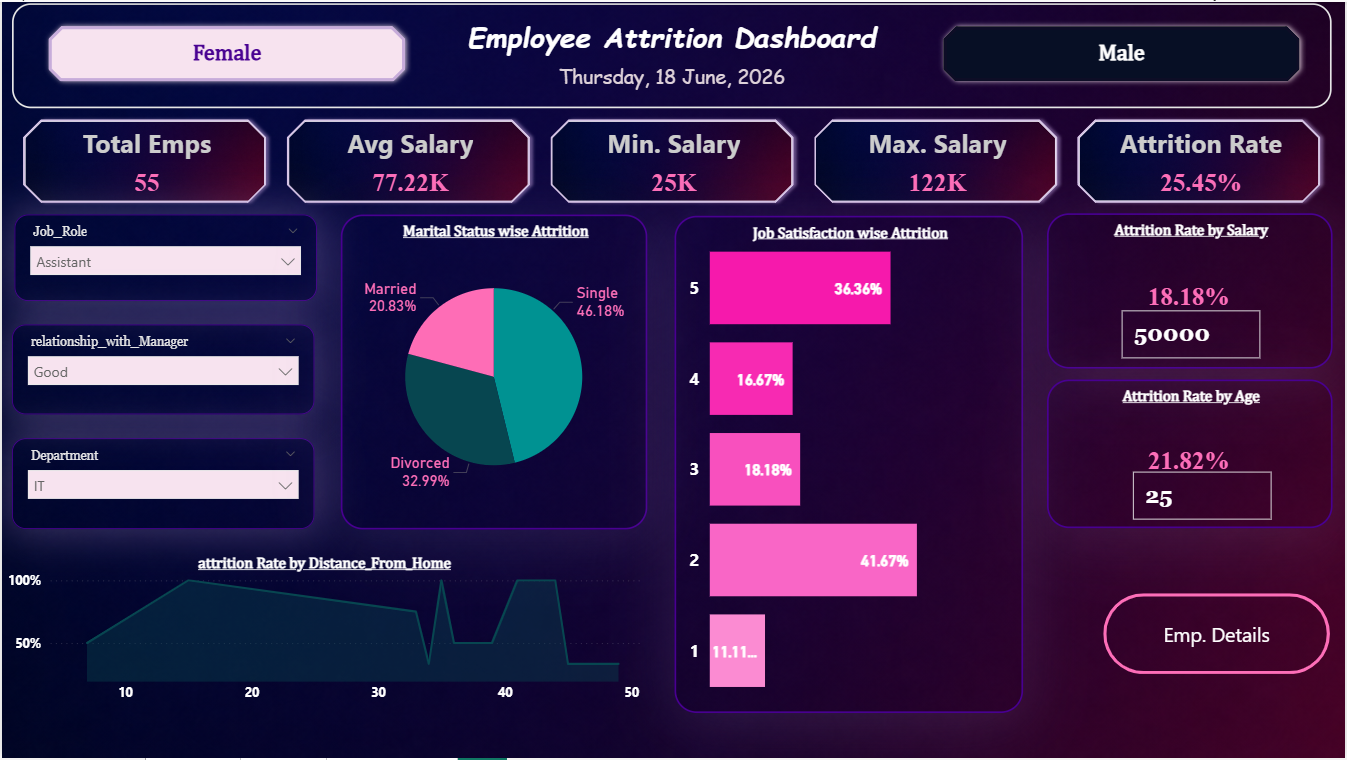

The dashboard page shown, as its layout file describes it:
{"tool":"powerbi","page":{"name":"Main","canvas":[1280,720],"ordinal":0},"visuals":[{"type":"textbox","box":[10,1.4,1257.1,100],"z":0},{"type":"card","fields":{"Values":["emp_attrition.Current date"]},"box":[467.1,44.3,342.9,57.1],"z":1000},{"type":"cardVisual","fields":{"Data":["CountNonNull(emp_attrition.Employee_ID)","Avg(emp_attrition.Monthly_Income)","Min(emp_attrition.Monthly_Income)1","Max(emp_attrition.Monthly_Income)2","emp_attrition.attrition Rate"]},"box":[9.5,101.2,1257.1,101.2],"z":2000},{"type":"slicer","fields":{"Values":["emp_attrition.Department"]},"box":[10,415.6,287.8,86.7],"z":3000},{"type":"slicer","fields":{"Values":["emp_attrition.Job_Role"]},"box":[12.2,202.2,287.8,82.2],"z":4000},{"type":"slicer","fields":{"Values":["emp_attrition.relationship_with_Manager"]},"box":[10,306.7,287.8,85.6],"z":5000},{"type":"advancedSlicerVisual","fields":{"Values":["emp_attrition.Gender"]},"box":[32.8,12.3,1214.4,75.9],"z":6000},{"type":"pieChart","title":"Marital Status wise Attrition","fields":{"Y":["emp_attrition.attrition Rate"],"Category":["emp_attrition.Marital_Status"]},"box":[322.2,202.2,292.2,300],"z":7000},{"type":"clusteredBarChart","title":"Job Satisfaction wise Attrition","fields":{"Category":["emp_attrition.Job_Satisfaction"],"Y":["emp_attrition.attrition Rate"]},"box":[640,203.5,332.1,474],"z":8000},{"type":"cardVisual","title":"Attrition Rate by Salary","fields":{"Data":["emp_attrition.attrition Rate high salary"]},"box":[995,201.7,271.7,148.3],"z":9000},{"type":"lineChart","fields":{"Y":["emp_attrition.attrition Rate"],"Category":["emp_attrition.Distance_From_Home"]},"box":[0,527.8,614.4,148.9],"z":10000},{"type":"slicer","fields":{"Values":["Parameter.Parameter"]},"box":[1053.3,283.3,163.3,90],"z":11000},{"type":"cardVisual","title":"Attrition Rate by Age","fields":{"Data":["emp_attrition.attrition Rate Age"]},"box":[995,359,271.7,141.7],"z":12000},{"type":"actionButton","box":[1048.7,562.9,215.9,77.1],"z":13000},{"type":"slicer","fields":{"Values":["age.age"]},"box":[1064,437,157.9,75],"z":14000}]}

Visuals, with their boxes in screenshot pixels (x1, y1, x2, y2), scaled from the page's 1280x720 canvas onto the 1347x760 screenshot:
textbox: (11, 1, 1333, 107)
card - emp_attrition.Current date: (492, 47, 852, 107)
cardVisual - CountNonNull(emp_attrition.Employee_ID) x Avg(emp_attrition.Monthly_Income): (10, 107, 1333, 214)
slicer - emp_attrition.Department: (11, 439, 313, 530)
slicer - emp_attrition.Job_Role: (13, 213, 316, 300)
slicer - emp_attrition.relationship_with_Manager: (11, 324, 313, 414)
advancedSlicerVisual - emp_attrition.Gender: (35, 13, 1312, 93)
"Marital Status wise Attrition" pieChart: (339, 213, 647, 530)
"Job Satisfaction wise Attrition" clusteredBarChart: (674, 215, 1023, 715)
"Attrition Rate by Salary" cardVisual: (1047, 213, 1333, 369)
lineChart - emp_attrition.attrition Rate x emp_attrition.Distance_From_Home: (0, 557, 647, 714)
slicer - Parameter.Parameter: (1108, 299, 1280, 394)
"Attrition Rate by Age" cardVisual: (1047, 379, 1333, 529)
actionButton: (1104, 594, 1331, 676)
slicer - age.age: (1120, 461, 1286, 540)
